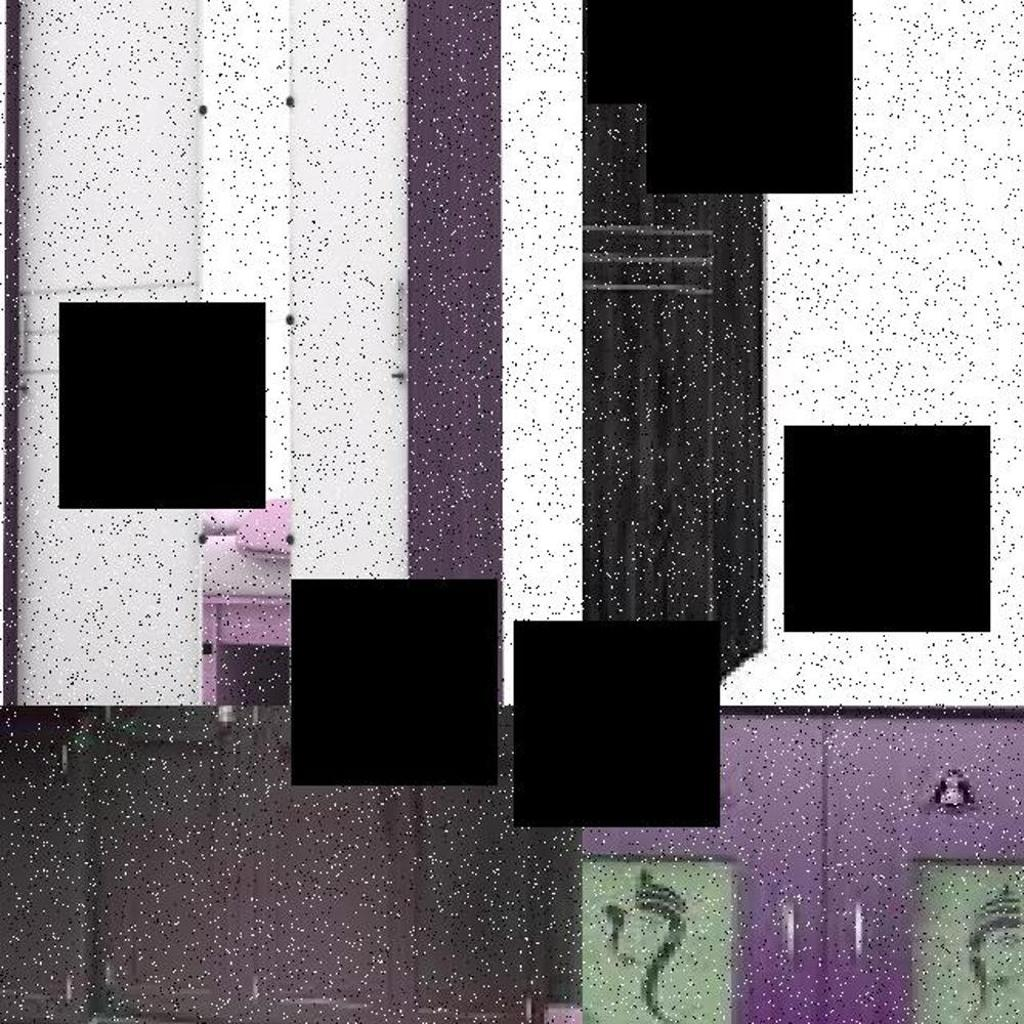cabinet: (0, 0, 509, 706), (78, 706, 582, 1024), (582, 0, 790, 699), (582, 706, 1024, 1024), (0, 706, 163, 1024)
